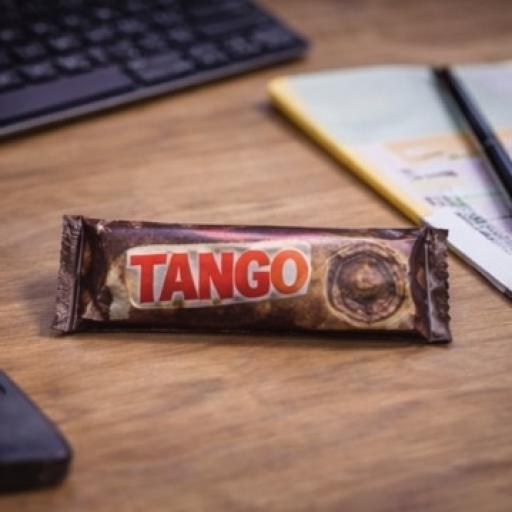tango: (38, 153, 478, 415)
